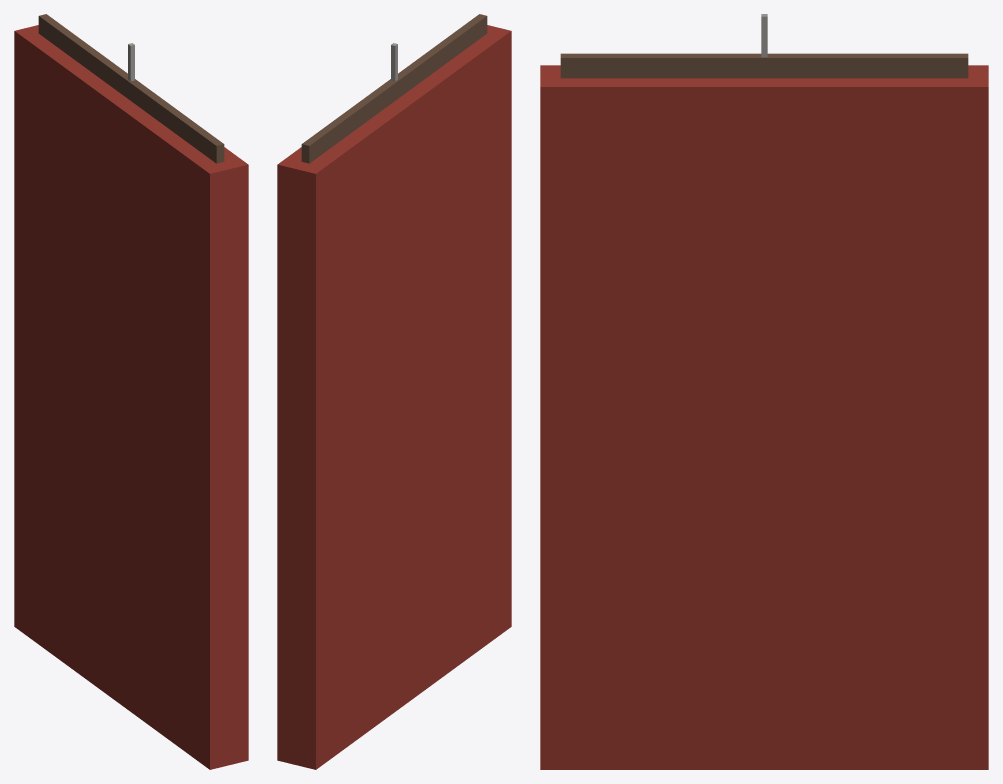
File: flannel-hung.glb
3 views of the same model, side by side, from view 1: azimuth 30°, elevation 25°; view 2: azimuth 150°, elevation 25°; view 3: azimuth 270°, elevation 25° (orthographic). The views are drawn at different scales.
Parts seen in each view (by area): view 1: accent-warm, wood; view 2: accent-warm, wood; view 3: accent-warm, wood.
Boxes of the visible parts, <box> form: accent-warm: <box>14,25,248,769</box>; wood: <box>38,14,224,163</box>; accent-warm: <box>277,25,511,769</box>; wood: <box>301,14,487,163</box>; accent-warm: <box>540,65,988,769</box>; wood: <box>560,53,968,78</box>.
Bounding box in the file's own units: 0.05 × 0.806 × 0.44.
